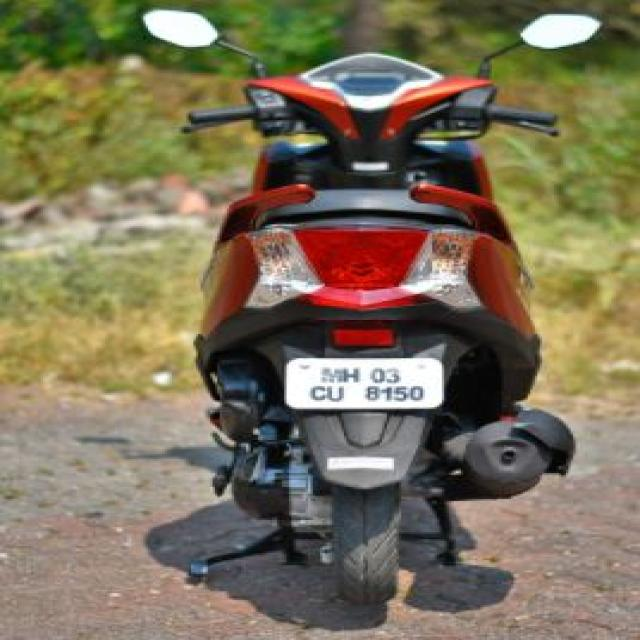license_plate: (279, 355, 446, 410)
